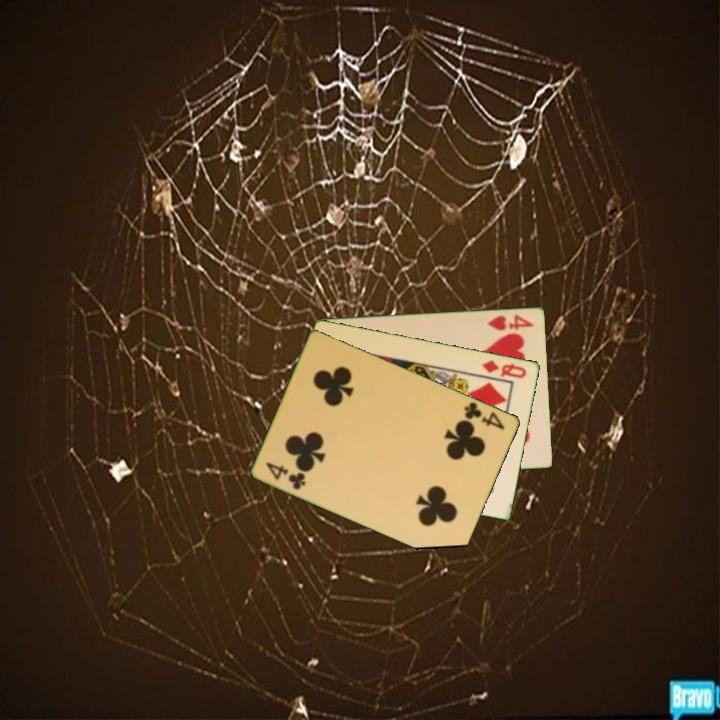4c: (263, 458, 309, 493), (461, 398, 508, 432)
4h: (484, 311, 536, 333)
Qd: (479, 356, 530, 381)
